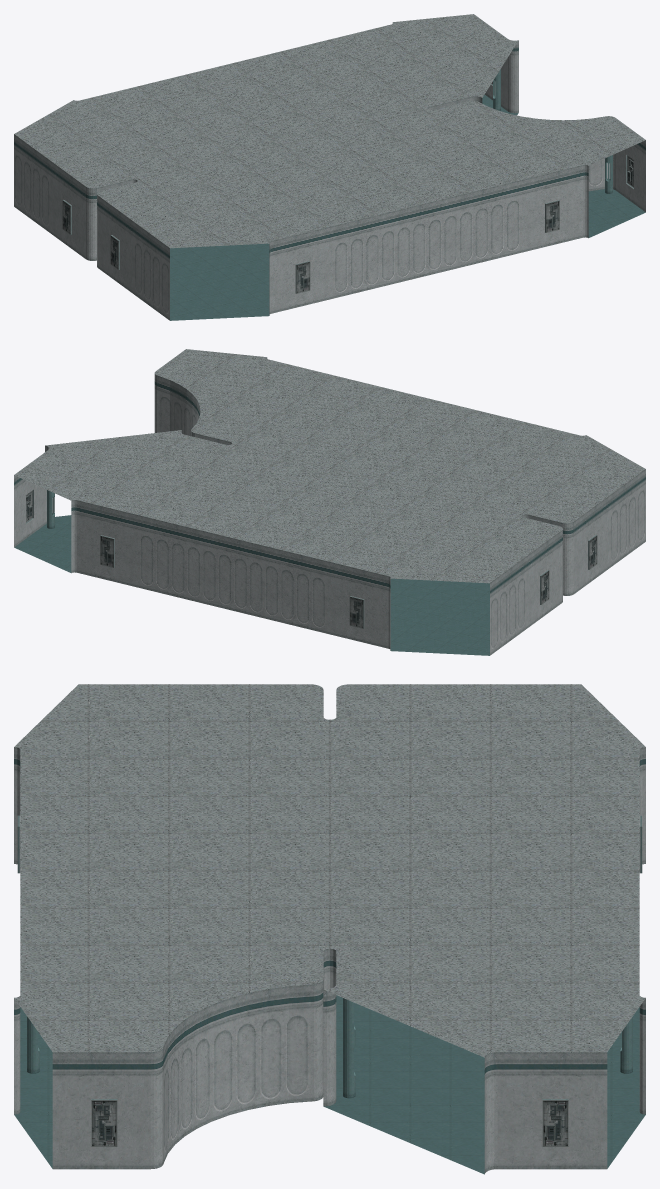
File: mun_nboo_hospital_s01_r6_rooma_mesh_r6.fbx
3 renders of one model, top to bottom at view 1: azimuth 30°, elevation 25°; view 2: azimuth 150°, elevation 25°; view 3: azimuth 270°, elevation 25°, orthographic. The views are drawn at different scales.
Parts seen in each view (by area): view 1: mesh_node; view 2: mesh_node; view 3: mesh_node.
Boxes of the visible parts, left/top/right/bottom form: mesh_node: left=14, top=14, right=645, bottom=320; mesh_node: left=14, top=349, right=645, bottom=655; mesh_node: left=14, top=684, right=645, bottom=1174.
Bounding box in the file's own units: 34.35 × 5 × 24.5.
